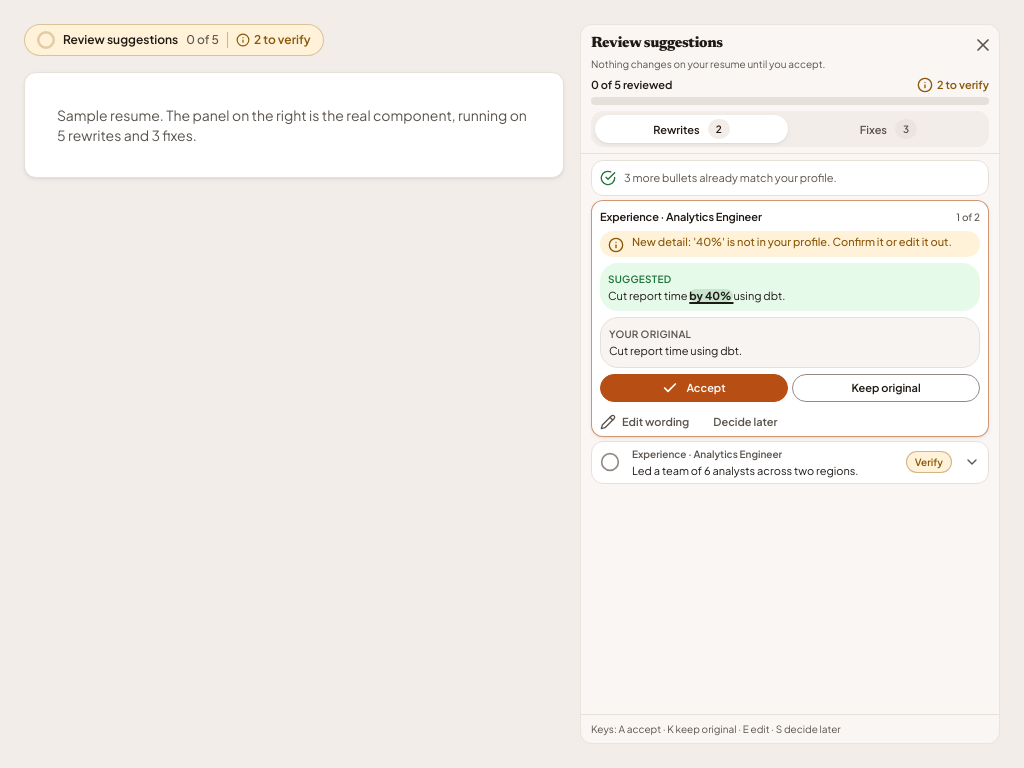
Test: ReviewPanel › re-opens the same card after Undo, with no stale re-open lock blocking the next one
What coordinates should you click on to do the following:
click the button "Keep original"
I would click on:
 (886, 388)
Its box is [792, 374, 980, 402].
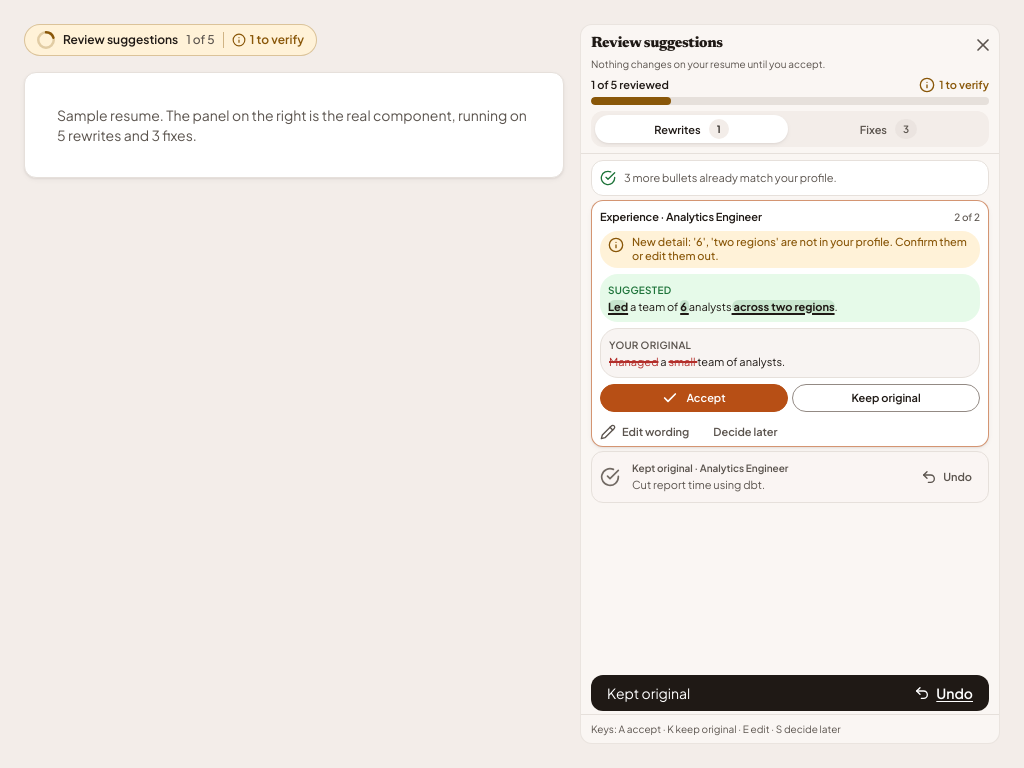
What coordinates should you click on to do the following:
click the button "Undo" in the row of "Cut report time using dbt."
I would click on:
 (947, 477)
Its box is [909, 463, 984, 491].
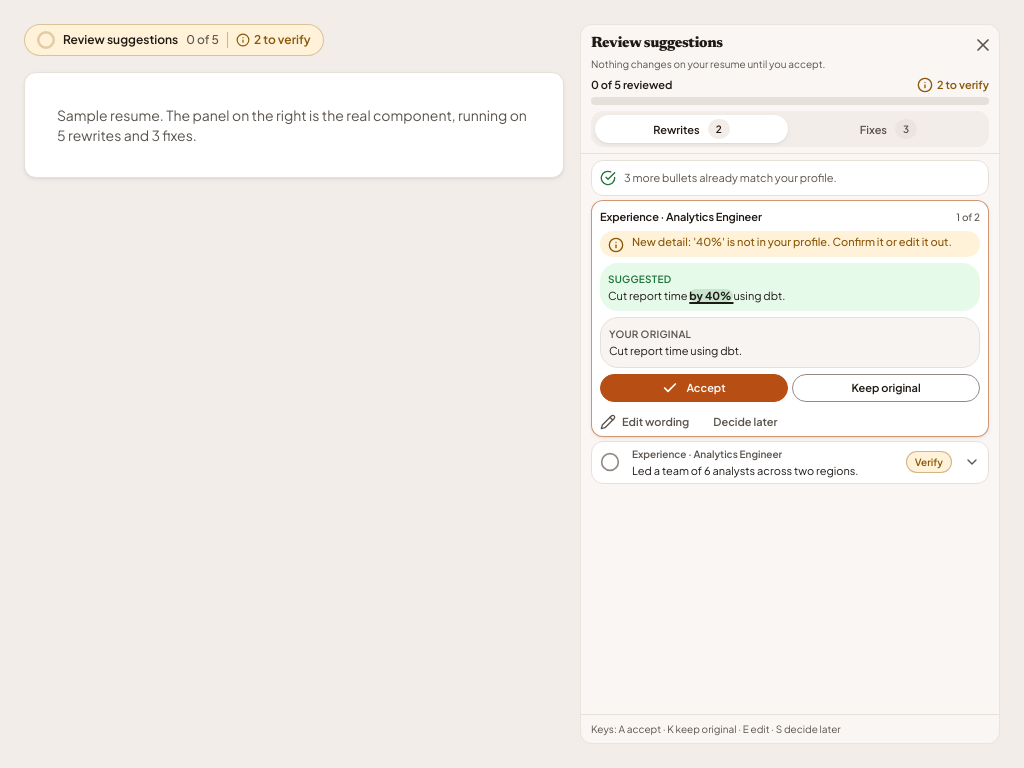
Expected: the text "1 of 2" is shown, [956, 209, 980, 225]
What coordinates should you click on to do the following:
click the button "Accept"
I would click on:
 (694, 388)
Its box is [600, 374, 788, 402].
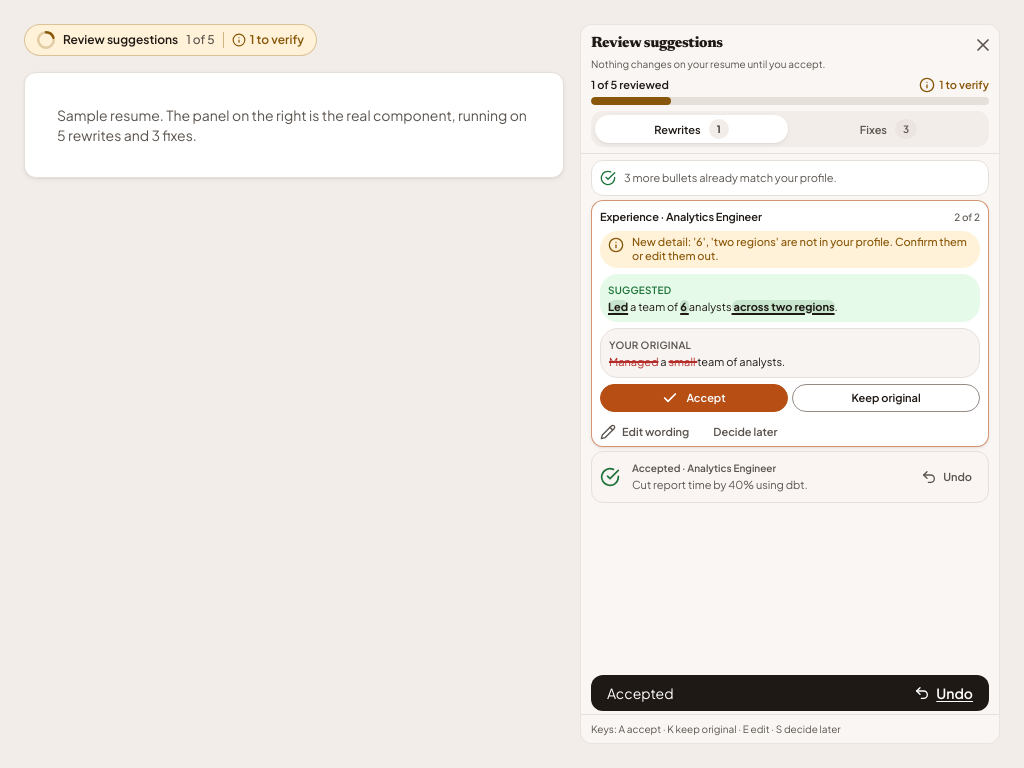
Expected: the text "2 of 2" is shown, [954, 209, 980, 225]
